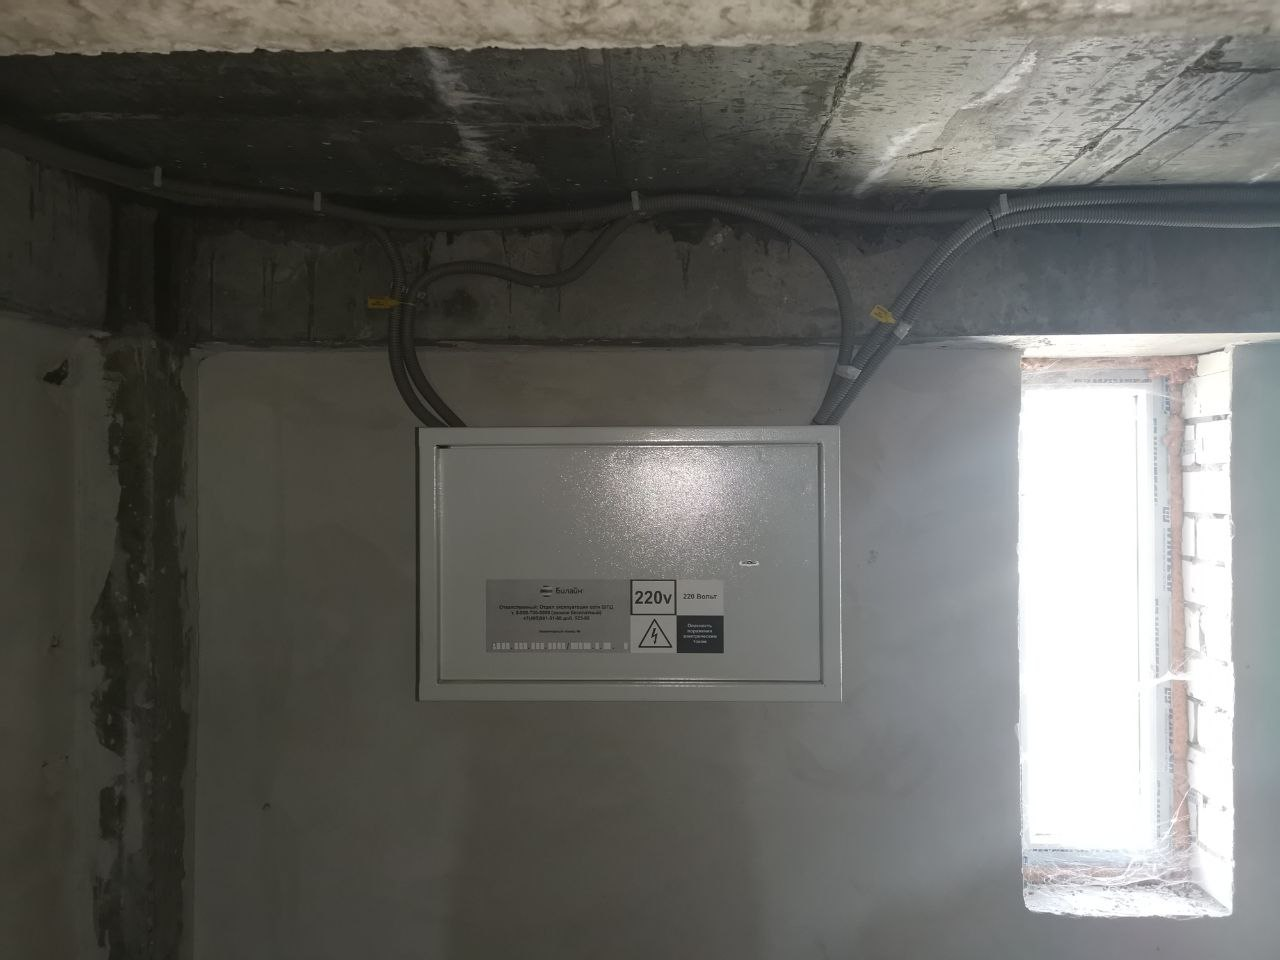shta-7m: (403, 415, 855, 715)
